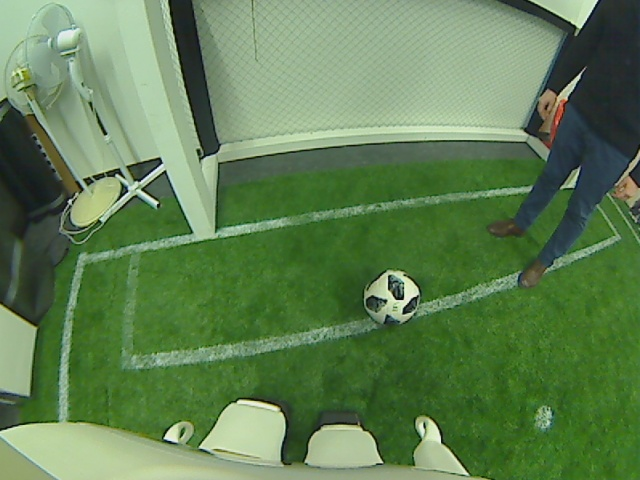ball: (360, 266, 422, 327)
